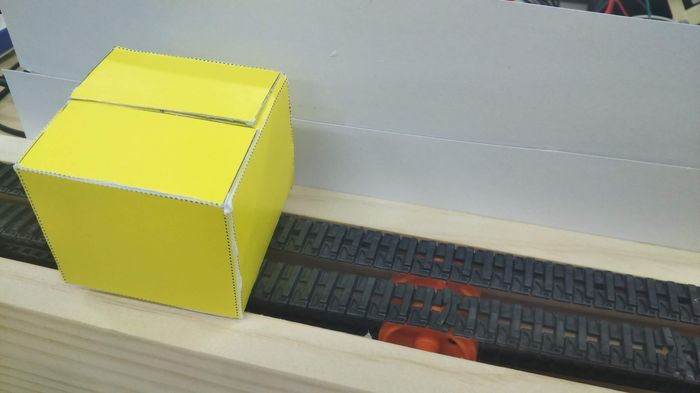box4: (11, 43, 298, 321)
